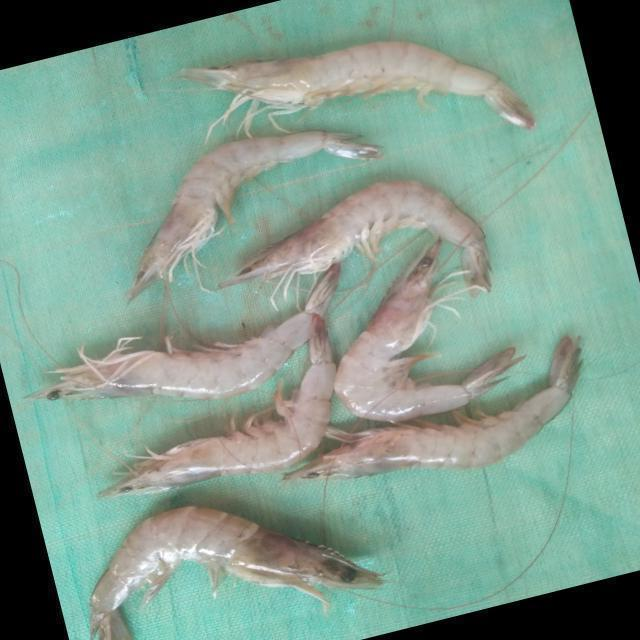shrimp: (284, 336, 583, 481), (26, 263, 341, 400), (99, 314, 336, 496), (127, 130, 382, 299), (89, 507, 384, 640), (335, 240, 523, 422), (181, 40, 538, 135), (219, 180, 492, 291)
